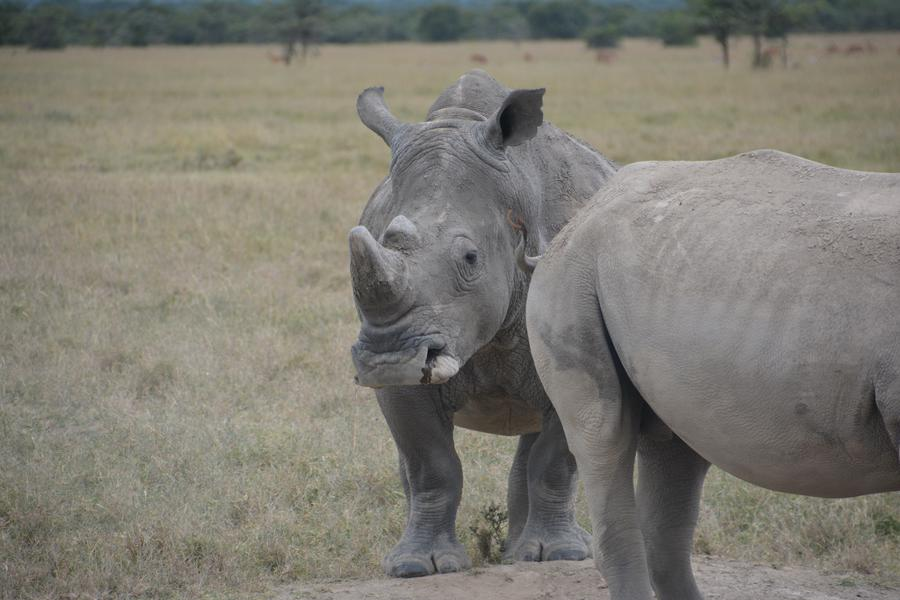rhino: (565, 146, 885, 545), (344, 63, 544, 530)
